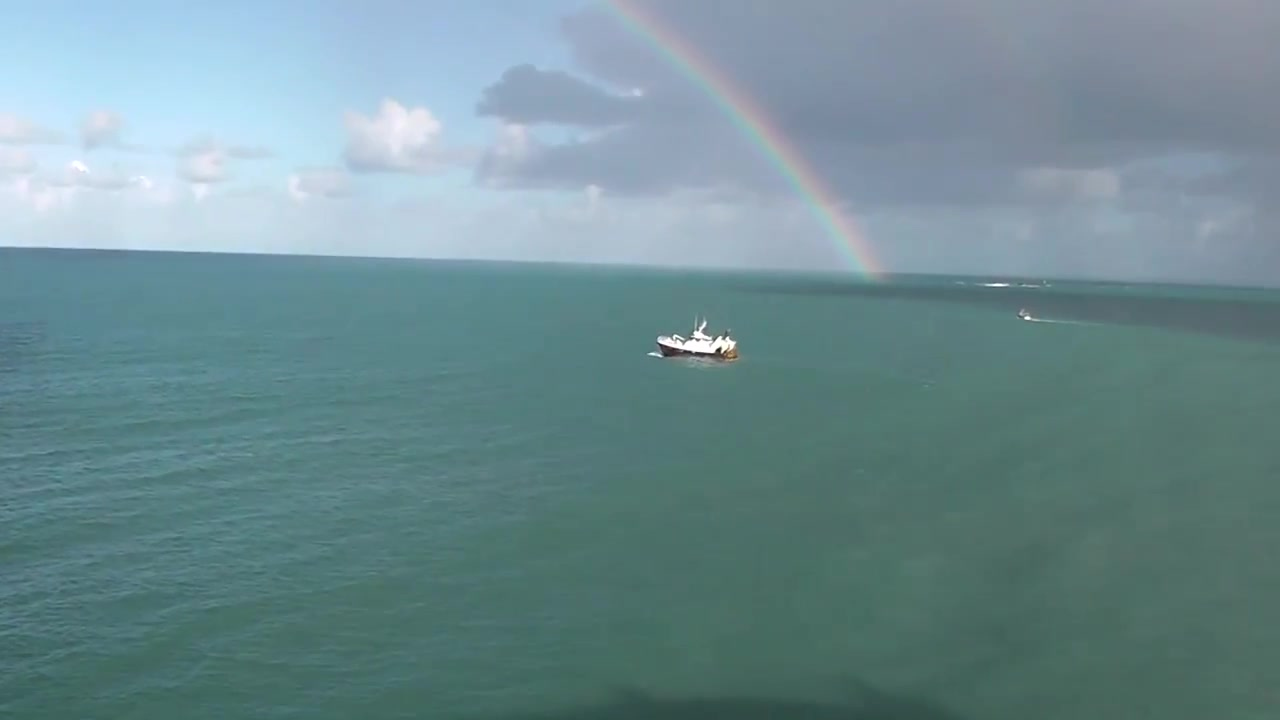CommonShip: (654, 314, 740, 359)
